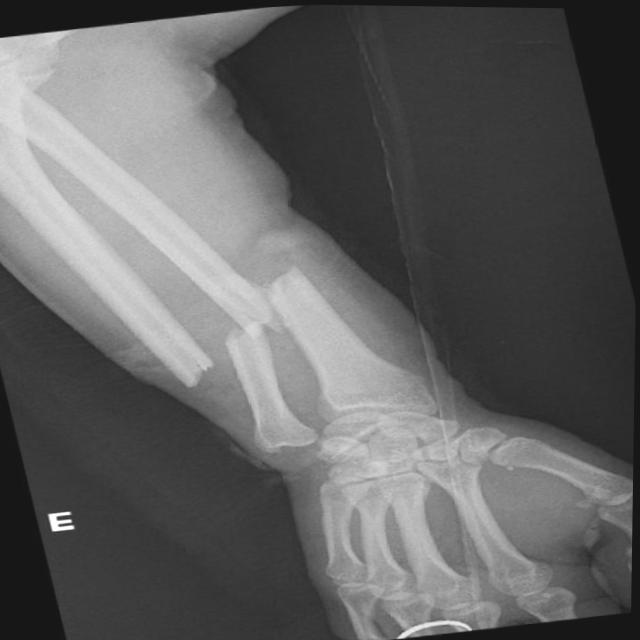Transverse: (210, 243, 330, 342), (144, 311, 280, 396)
